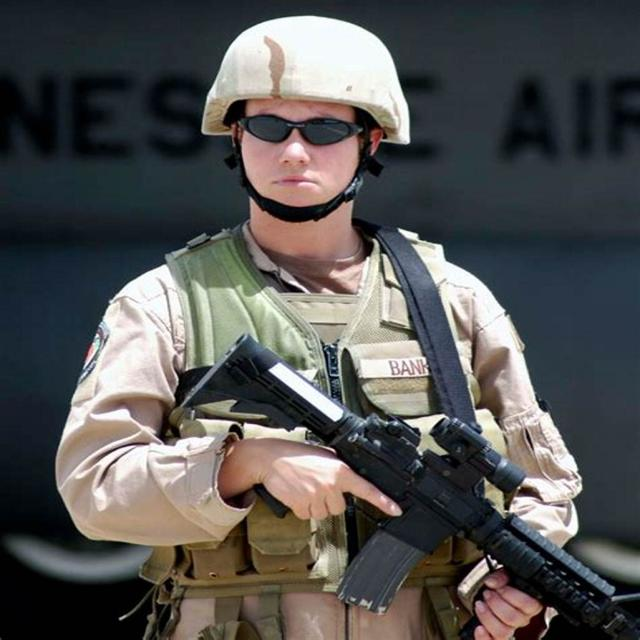illegal_helmet: (193, 11, 420, 228)
